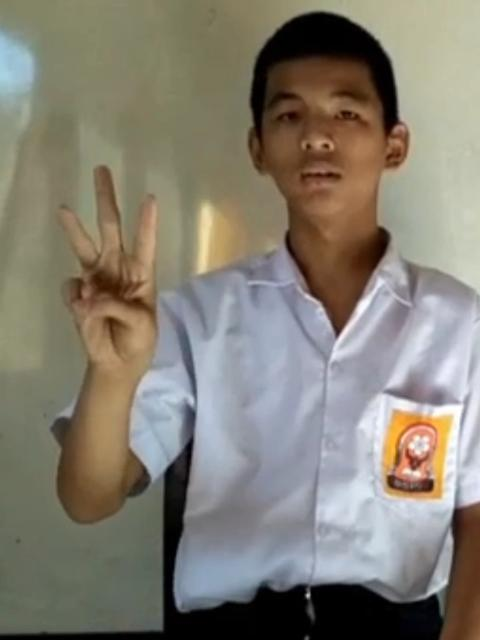W: (54, 157, 170, 369)
